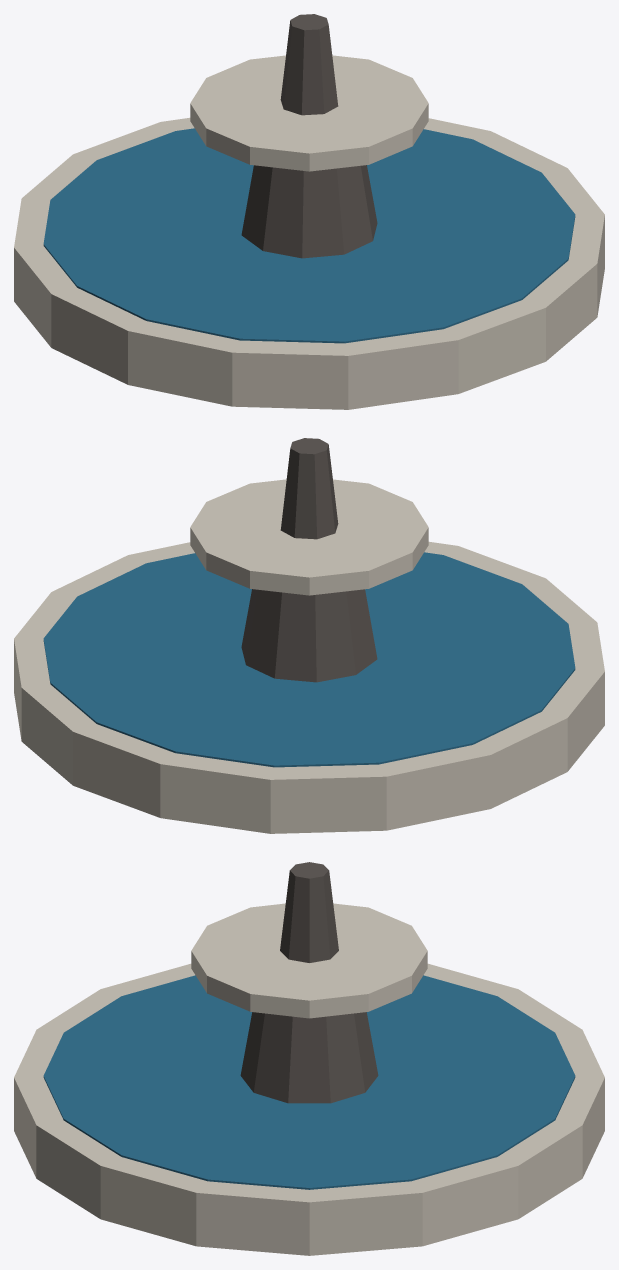
File: prop_dt_fountain.glb
3 views of the same model, one above another, from view 1: azimuth 30°, elevation 25°; view 2: azimuth 150°, elevation 25°; view 3: azimuth 270°, elevation 25° (orthographic).
Visible parts, largest first — view 1: prop_dt_fountain; view 2: prop_dt_fountain; view 3: prop_dt_fountain.
Part boxes in pixels (x1,y1,x2,y2): prop_dt_fountain: (14, 14, 604, 409); prop_dt_fountain: (14, 438, 604, 833); prop_dt_fountain: (14, 862, 604, 1255).
Size of what is drawn, in the model's own units: 6 by 2.92 by 6.
